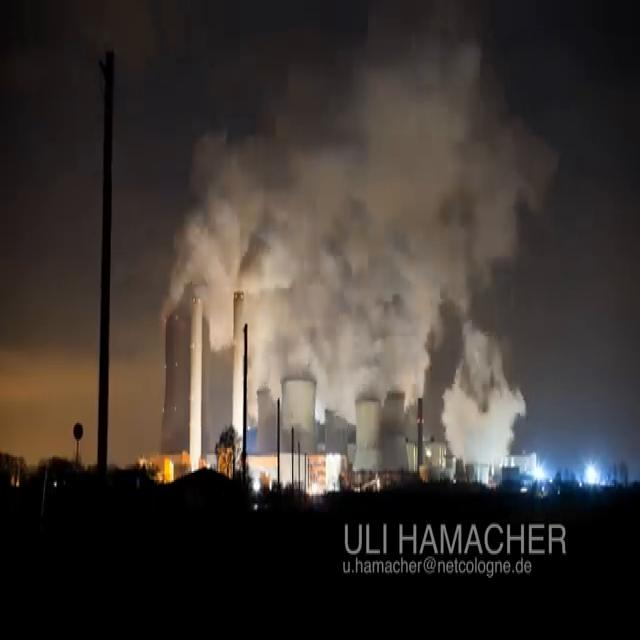smoke: (168, 28, 558, 411), (442, 320, 527, 484)
